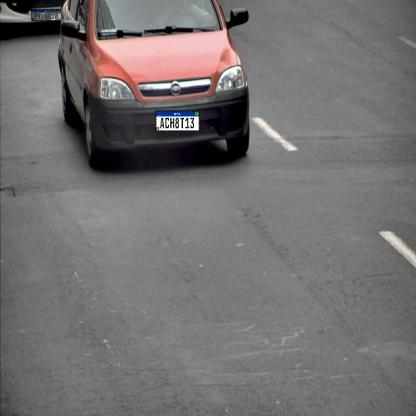PlacaM: (156, 110, 199, 132), (32, 9, 62, 21)
